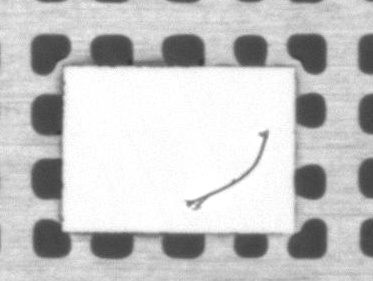DIE_INK: (240, 94, 362, 160)
